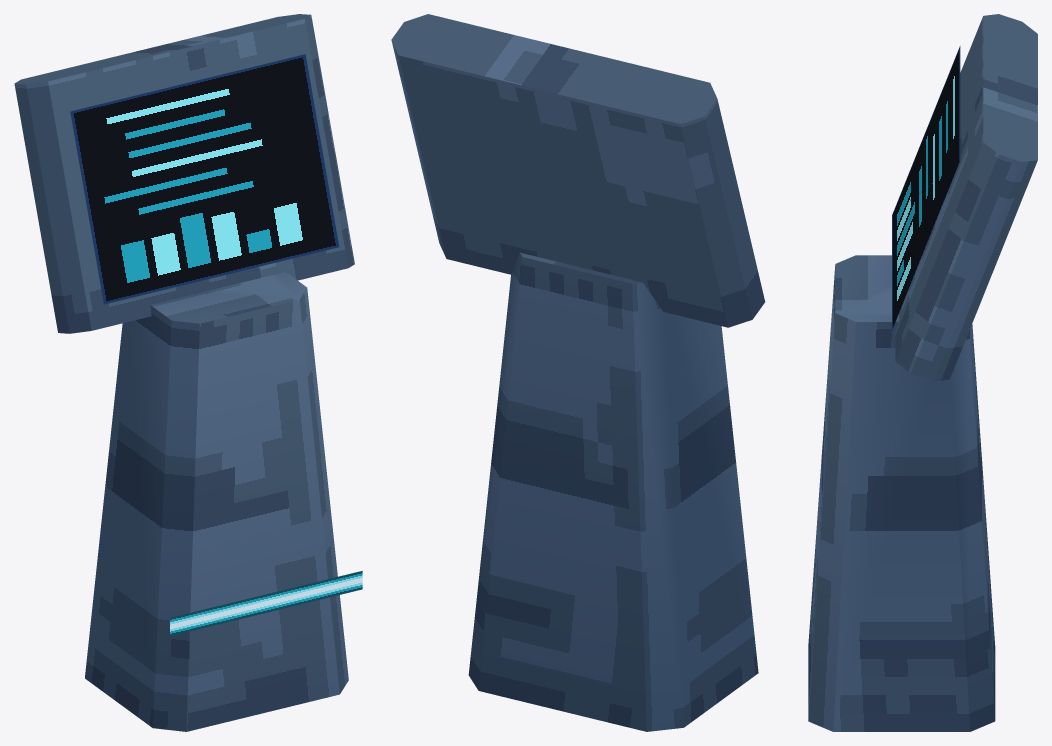
File: cytech.terminal.glb
3 views of the same model, side by side, from view 1: azimuth 30°, elevation 25°; view 2: azimuth 150°, elevation 25°; view 3: azimuth 270°, elevation 25° (orthographic). The views are drawn at different scales.
Parts seen in each view (by area): view 1: kit_body, kit_card_screen; view 2: kit_body; view 3: kit_body, kit_card_screen.
Part boxes in pixels (box(x1,y1,x2,y2)): kit_body: box(14, 14, 354, 731); kit_card_screen: box(70, 54, 362, 636); kit_body: box(391, 14, 765, 731); kit_body: box(808, 14, 1037, 731); kit_card_screen: box(892, 46, 960, 330).
Size of the model in its own units: 0.8 by 1.61 by 0.5678.
Materials: 5 (5 with a texture image).
